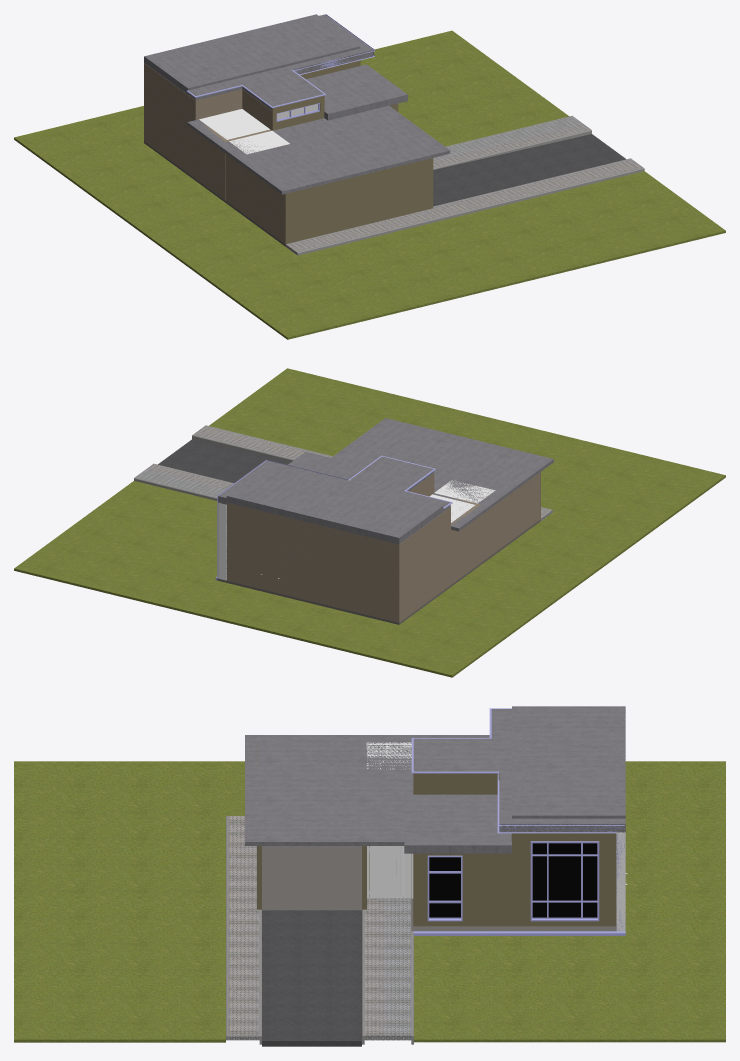
File: japandi-contemporary.glb
3 views of the same model, one above another, from view 1: azimuth 30°, elevation 25°; view 2: azimuth 150°, elevation 25°; view 3: azimuth 270°, elevation 25° (orthographic). The views are drawn at different scales.
Visible parts, largest first — view 1: mesh-a248cec2-24c7-4731-b79c-1b00eb2f0e9a, mesh-acbd06cb-3d6e-4898-a96c-63e2c9d0d9b1, mesh-af7efa8a-338d-45d4-89d3-1fed5e522842, mesh-ae3fad6e-a22c-4c4b-b43a-c44bb738f966, mesh-a129deed-955a-4f77-a9ad-b162748a55d1, mesh-d01d11c3-f941-41bd-8ccc-eac408291f8d, mesh-b9959e05-de96-42b2-b817-f085244987d4, mesh-de746f7b-815d-4792-ad2d-ff3e2ce4246d, mesh-ae422200-6e07-4023-8970-063e6301e7a2, mesh-e19ab11c-9933-4009-aa0b-e0f3b97e6680, mesh-d3570fee-230f-4705-9e25-31207a0a257f, mesh-a7576e05-c1a6-4e7f-9fae-792256957dc7 (+6 smaller); view 2: mesh-a248cec2-24c7-4731-b79c-1b00eb2f0e9a, mesh-a129deed-955a-4f77-a9ad-b162748a55d1, mesh-acbd06cb-3d6e-4898-a96c-63e2c9d0d9b1, mesh-af7efa8a-338d-45d4-89d3-1fed5e522842, mesh-ae422200-6e07-4023-8970-063e6301e7a2, mesh-d01d11c3-f941-41bd-8ccc-eac408291f8d, mesh-d3570fee-230f-4705-9e25-31207a0a257f, mesh-e19ab11c-9933-4009-aa0b-e0f3b97e6680, mesh-b9959e05-de96-42b2-b817-f085244987d4, mesh-de746f7b-815d-4792-ad2d-ff3e2ce4246d, mesh-ab794a1a-f1a3-47ef-983b-0a7a43856d5a, mesh-ca0c23fc-379a-4af8-9a7f-c267024ed5ab (+2 smaller); view 3: mesh-a248cec2-24c7-4731-b79c-1b00eb2f0e9a, mesh-acbd06cb-3d6e-4898-a96c-63e2c9d0d9b1, mesh-d01d11c3-f941-41bd-8ccc-eac408291f8d, mesh-af7efa8a-338d-45d4-89d3-1fed5e522842, mesh-ab1fdee8-c37c-42d7-b644-c3c1733f5770, mesh-ab794a1a-f1a3-47ef-983b-0a7a43856d5a, mesh-e19ab11c-9933-4009-aa0b-e0f3b97e6680, mesh-b9959e05-de96-42b2-b817-f085244987d4, mesh-de746f7b-815d-4792-ad2d-ff3e2ce4246d, mesh-d3570fee-230f-4705-9e25-31207a0a257f, mesh-bbcd5ddc-da75-43e5-bee4-7309cff58e5d, mesh-be2446f6-cdf1-4950-982c-ef3a9ab2596f (+14 smaller).
Boxes of the visible parts, x1,y1,x2,y2 form: mesh-a248cec2-24c7-4731-b79c-1b00eb2f0e9a: [14, 30, 725, 339]; mesh-acbd06cb-3d6e-4898-a96c-63e2c9d0d9b1: [187, 106, 450, 194]; mesh-af7efa8a-338d-45d4-89d3-1fed5e522842: [144, 14, 360, 94]; mesh-ae3fad6e-a22c-4c4b-b43a-c44bb738f966: [285, 158, 433, 243]; mesh-a129deed-955a-4f77-a9ad-b162748a55d1: [144, 63, 272, 200]; mesh-d01d11c3-f941-41bd-8ccc-eac408291f8d: [433, 134, 625, 206]; mesh-b9959e05-de96-42b2-b817-f085244987d4: [285, 159, 642, 254]; mesh-de746f7b-815d-4792-ad2d-ff3e2ce4246d: [306, 64, 407, 120]; mesh-ae422200-6e07-4023-8970-063e6301e7a2: [225, 154, 285, 244]; mesh-e19ab11c-9933-4009-aa0b-e0f3b97e6680: [433, 116, 590, 167]; mesh-d3570fee-230f-4705-9e25-31207a0a257f: [235, 66, 323, 110]; mesh-a7576e05-c1a6-4e7f-9fae-792256957dc7: [296, 167, 644, 255]; mesh-a248cec2-24c7-4731-b79c-1b00eb2f0e9a: [14, 368, 725, 677]; mesh-a129deed-955a-4f77-a9ad-b162748a55d1: [227, 473, 480, 622]; mesh-acbd06cb-3d6e-4898-a96c-63e2c9d0d9b1: [331, 418, 553, 531]; mesh-af7efa8a-338d-45d4-89d3-1fed5e522842: [226, 464, 442, 544]; mesh-ae422200-6e07-4023-8970-063e6301e7a2: [481, 472, 540, 562]; mesh-d01d11c3-f941-41bd-8ccc-eac408291f8d: [158, 439, 291, 482]; mesh-d3570fee-230f-4705-9e25-31207a0a257f: [347, 456, 433, 494]; mesh-e19ab11c-9933-4009-aa0b-e0f3b97e6680: [135, 464, 232, 497]; mesh-b9959e05-de96-42b2-b817-f085244987d4: [193, 426, 551, 520]; mesh-de746f7b-815d-4792-ad2d-ff3e2ce4246d: [288, 451, 366, 479]; mesh-ab794a1a-f1a3-47ef-983b-0a7a43856d5a: [217, 519, 540, 624]; mesh-ca0c23fc-379a-4af8-9a7f-c267024ed5ab: [434, 480, 495, 503]; mesh-a248cec2-24c7-4731-b79c-1b00eb2f0e9a: [14, 761, 725, 1042]; mesh-acbd06cb-3d6e-4898-a96c-63e2c9d0d9b1: [245, 735, 489, 845]; mesh-d01d11c3-f941-41bd-8ccc-eac408291f8d: [262, 910, 361, 1046]; mesh-af7efa8a-338d-45d4-89d3-1fed5e522842: [512, 706, 625, 818]; mesh-ab1fdee8-c37c-42d7-b644-c3c1733f5770: [413, 833, 615, 926]; mesh-ab794a1a-f1a3-47ef-983b-0a7a43856d5a: [262, 846, 615, 931]; mesh-e19ab11c-9933-4009-aa0b-e0f3b97e6680: [364, 897, 411, 1040]; mesh-b9959e05-de96-42b2-b817-f085244987d4: [228, 816, 259, 1040]; mesh-de746f7b-815d-4792-ad2d-ff3e2ce4246d: [404, 794, 511, 853]; mesh-d3570fee-230f-4705-9e25-31207a0a257f: [413, 738, 511, 776]; mesh-bbcd5ddc-da75-43e5-bee4-7309cff58e5d: [499, 771, 625, 832]; mesh-be2446f6-cdf1-4950-982c-ef3a9ab2596f: [367, 846, 413, 898].
Size of the model in its own units: 21.11 by 4.25 by 22.81.
19 materials, 12 textured.
